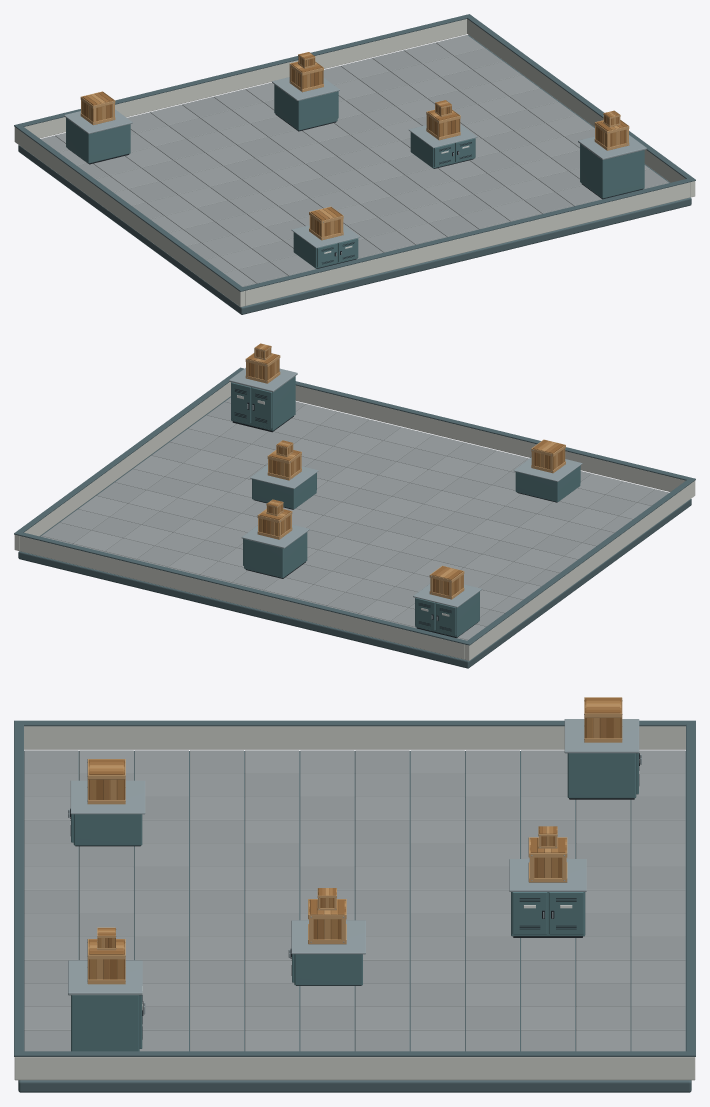
The picture shows the model from 3 angles, top to bottom: view 1: azimuth 30°, elevation 25°; view 2: azimuth 150°, elevation 25°; view 3: azimuth 270°, elevation 25°; orthographic projection. The views are drawn at different scales.
Parts seen in each view (by area): view 1: Cutaway wall.002, Floor foundation, Cutaway wall.003, Cutaway wall, item_5, Cutaway wall.001, item_6, item_10, Wall coping.002, item_7, item_9, Wall coping.003 (+120 smaller); view 2: Cutaway wall.003, Floor foundation, Cutaway wall.002, Cutaway wall, item_5, Cutaway wall.001, item_10, item_6, Wall coping.003, item_9, item_7, Wall coping.002 (+117 smaller); view 3: Cutaway wall.001, Cutaway wall, Floor foundation, item_5, item_6, item_10, Wall coping, Wall coping.001, item_9, item_7, Wall coping.002, Wall coping.003 (+143 smaller).
Part boxes in pixels (x1,y1,x2,y2): Cutaway wall.002: (245,182,690,305); Floor foundation: (18,35,691,314); Cutaway wall.003: (24,19,466,138); Cutaway wall: (14,127,245,307); item_5: (578,135,646,199); Cutaway wall.001: (467,19,695,197); item_6: (64,109,132,164); item_10: (272,77,339,131); Wall coping.002: (243,178,690,290); item_7: (408,124,477,168); item_9: (291,224,360,268); Wall coping.003: (19,15,467,126); Cutaway wall.003: (19,536,464,659); Floor foundation: (18,396,691,668); Cutaway wall.002: (295,385,685,491); Cutaway wall: (464,481,695,660); item_5: (229,368,297,432); Cutaway wall.001: (14,382,230,550); item_10: (241,524,309,578); item_6: (413,584,481,637); Wall coping.003: (19,532,466,644); item_9: (513,457,582,502); item_7: (250,464,318,509); Wall coping.002: (295,381,690,480); Cutaway wall.001: (14,1057,695,1080); Cutaway wall: (24,726,685,749); Floor foundation: (18,751,691,1092); item_5: (68,960,145,1051); item_6: (564,719,641,799); item_10: (509,859,586,937); Wall coping: (14,720,695,726); Wall coping.001: (14,1051,695,1056); item_9: (68,780,145,846); item_7: (288,920,365,985); Wall coping.002: (14,724,23,1051); Wall coping.003: (686,724,695,1051).
Size of the model in its own units: 14.36 by 2.49 by 12.36.
